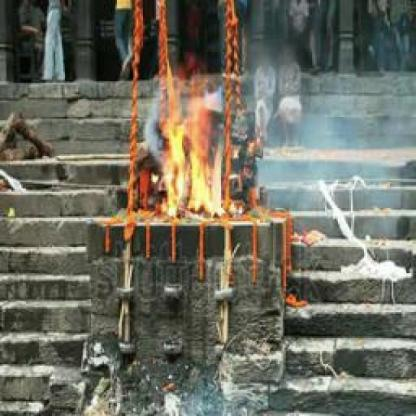fire: (160, 86, 225, 221)
